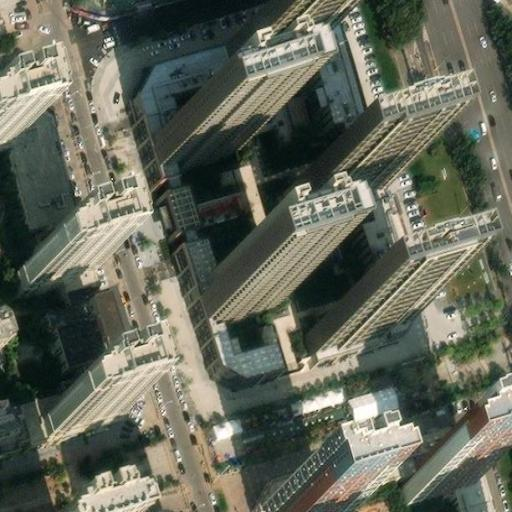building: (139, 7, 380, 372), (261, 405, 470, 496), (318, 180, 422, 352), (0, 368, 112, 442), (156, 91, 252, 155), (200, 246, 290, 310), (39, 209, 103, 297), (293, 145, 394, 197), (311, 289, 412, 341), (407, 426, 481, 485), (18, 229, 95, 284), (44, 376, 121, 430), (52, 304, 109, 362), (260, 475, 347, 512), (453, 455, 496, 512), (95, 493, 178, 512)
